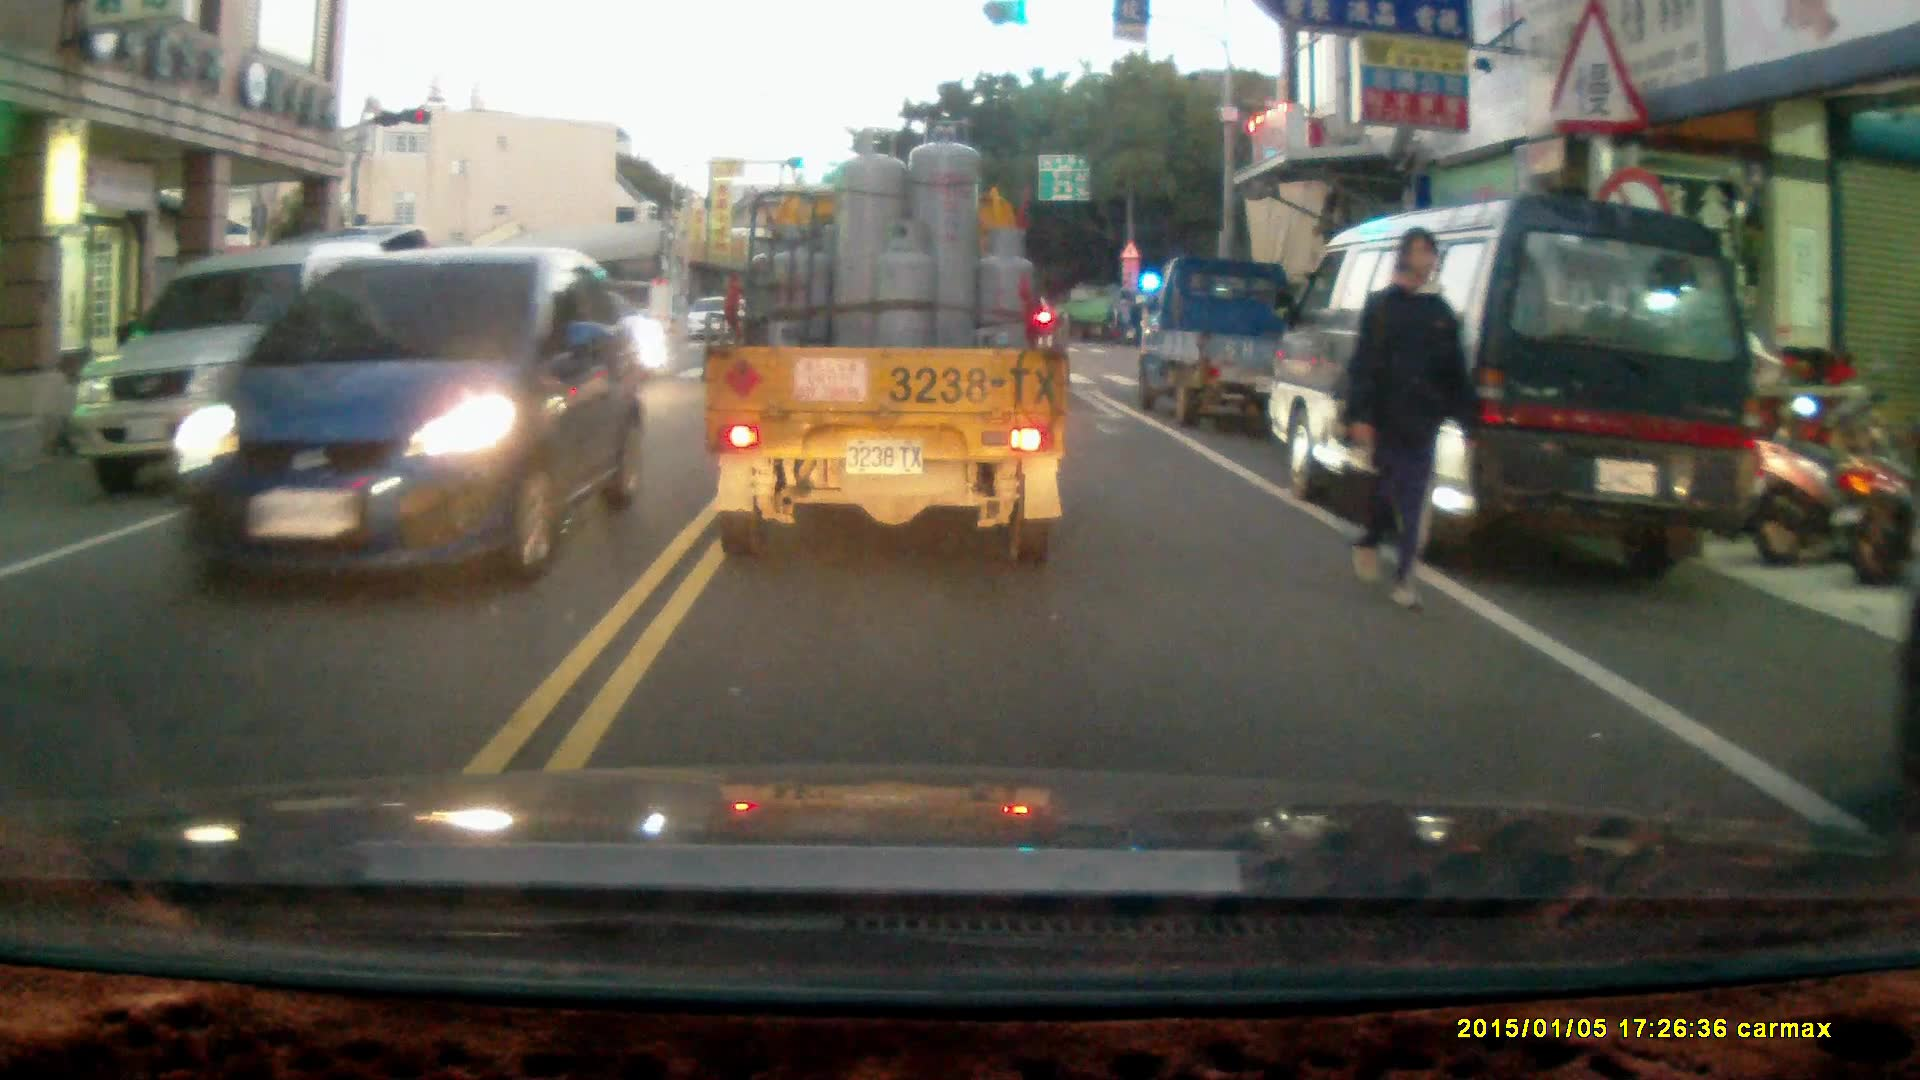pedestrian: (1341, 229, 1472, 613)
vehicle: (1271, 192, 1757, 583), (176, 243, 640, 594), (701, 121, 1069, 558), (301, 295, 538, 429), (1125, 246, 1295, 419)
